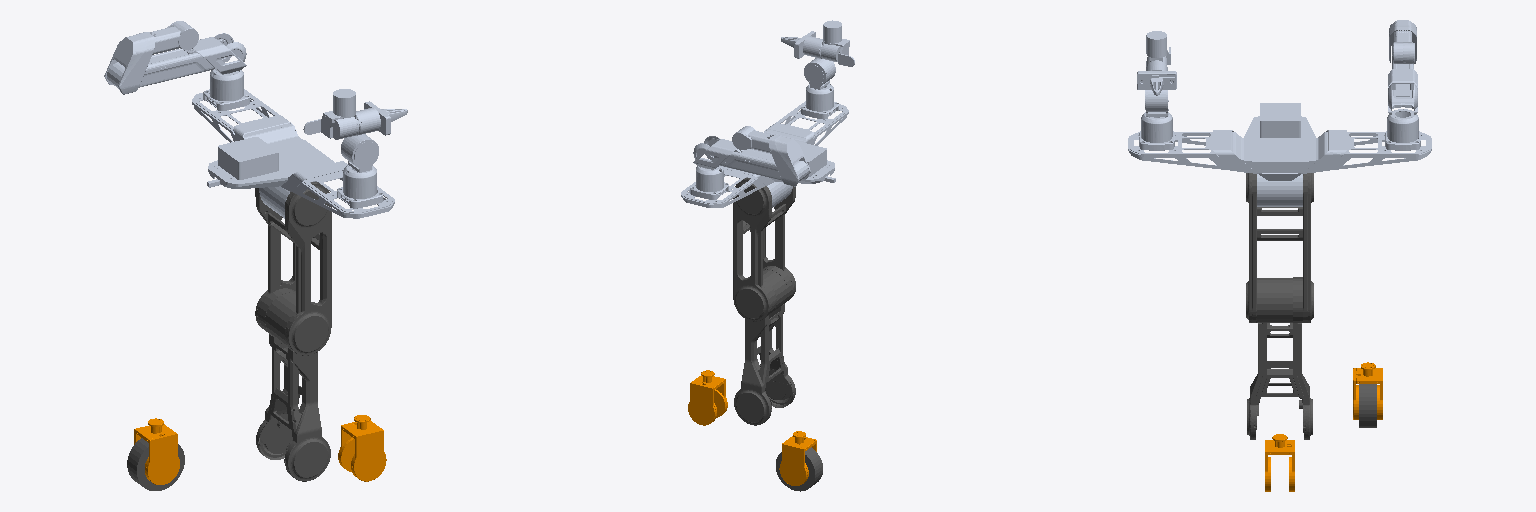
--- What the picture shows (computed from the rendered views, not written in the file) ---
The picture shows the robot from 3 angles, left to right: view 1: azimuth 30°, elevation 25°; view 2: azimuth 150°, elevation 25°; view 3: azimuth 270°, elevation 25°; orthographic projection.
Model mmp_revB_invconfig_upright_a1x with 33 links and 32 joints (18 revolute, 4 continuous, 6 prismatic, 4 fixed), rooted at root, posed all joints at 0.
Links seen in each view (by area): view 1: torso_link3, torso_link1, torso_link2, left_arm_link2, left_arm_link3, steer_motor_link1, steer_motor_link2, right_arm_base_link, left_arm_base_link, right_arm_link4, wheel_motor_link2, right_arm_link1 (+1 smaller); view 2: torso_link1, torso_link2, torso_link3, left_arm_link2, left_arm_link3, steer_motor_link1, steer_motor_link2, left_arm_base_link, right_arm_base_link, right_arm_link4, wheel_motor_link2, right_arm_link1 (+1 smaller); view 3: torso_link3, torso_link1, torso_link2, left_arm_link2, left_arm_base_link, right_arm_base_link, left_arm_link3, steer_motor_link2, steer_motor_link1, wheel_motor_link2, right_gripper_link, right_arm_link4 (+1 smaller).
Boxes of the visible links, bbox=[...] form: torso_link3: bbox=[192, 89, 394, 218]; torso_link1: bbox=[256, 288, 330, 481]; torso_link2: bbox=[255, 182, 331, 355]; left_arm_link2: bbox=[107, 33, 246, 88]; left_arm_link3: bbox=[104, 21, 198, 94]; steer_motor_link1: bbox=[338, 415, 386, 481]; steer_motor_link2: bbox=[134, 418, 179, 484]; right_arm_base_link: bbox=[337, 165, 383, 208]; left_arm_base_link: bbox=[203, 69, 249, 110]; right_arm_link4: bbox=[303, 89, 355, 138]; wheel_motor_link2: bbox=[127, 438, 184, 490]; right_arm_link1: bbox=[341, 134, 378, 172]; torso_link1: bbox=[734, 266, 795, 425]; torso_link2: bbox=[733, 178, 795, 321]; torso_link3: bbox=[681, 101, 848, 207]; left_arm_link2: bbox=[693, 136, 808, 180]; left_arm_link3: bbox=[732, 126, 810, 186]; steer_motor_link1: bbox=[688, 370, 727, 425]; steer_motor_link2: bbox=[779, 431, 816, 485]; left_arm_base_link: bbox=[690, 166, 728, 199]; right_arm_base_link: bbox=[801, 83, 838, 119]; right_arm_link4: bbox=[823, 20, 854, 66]; wheel_motor_link2: bbox=[776, 447, 822, 491]; right_arm_link1: bbox=[804, 58, 835, 89]; torso_link3: bbox=[1128, 103, 1431, 206]; torso_link1: bbox=[1247, 277, 1312, 439]; torso_link2: bbox=[1246, 173, 1313, 322]; left_arm_link2: bbox=[1388, 45, 1417, 114]; left_arm_base_link: bbox=[1385, 109, 1420, 150]; right_arm_base_link: bbox=[1139, 112, 1174, 150]; left_arm_link3: bbox=[1389, 20, 1416, 63]; steer_motor_link2: bbox=[1353, 362, 1382, 419]; steer_motor_link1: bbox=[1265, 434, 1294, 491]; wheel_motor_link2: bbox=[1359, 384, 1376, 427]; right_gripper_link: bbox=[1137, 60, 1176, 89]; right_arm_link4: bbox=[1146, 31, 1170, 64].
Size in the robot's own frame: 0.8723 by 1.24 by 1.91 metres.
Meshes: 30 distinct files referenced, 17 mesh visuals loaded (17 binary STL); not drawn: 13 (reference not matched to a file when rendering).

robot.urdf — mmp_revB_invconfig_upright_a1x:
<?xml version='1.0' encoding='utf-8'?>
<robot name="mmp_revB_invconfig_upright_a1x">
  <link name="root">
    <inertial>
      <mass value="0.0" />
      <inertia ixx="0.0" ixy="0.0" ixz="0.0" iyy="0.0" iyz="0.0" izz="0.0" />
    </inertial>
  </link>
  <link name="root_arm_1_link_1">
    <inertial>
      <mass value="0.0" />
      <inertia ixx="0.0" ixy="0.0" ixz="0.0" iyy="0.0" iyz="0.0" izz="0.0" />
    </inertial>
  </link>
  <link name="root_arm_1_link_2">
    <inertial>
      <mass value="0.0" />
      <inertia ixx="0.0" ixy="0.0" ixz="0.0" iyy="0.0" iyz="0.0" izz="0.0" />
    </inertial>
  </link>
  <joint name="root_x_axis_joint" type="prismatic">
    <parent link="root" />
    <child link="root_arm_1_link_1" />
    <axis xyz="1 0 0" />
    <limit effort="100" lower="-20" upper="20" velocity="0.50" />
    <dynamics damping="10.0" friction="10" />
  </joint>
  <joint name="root_y_axis_joint" type="prismatic">
    <parent link="root_arm_1_link_1" />
    <child link="root_arm_1_link_2" />
    <axis xyz="0 1 0" />
    <limit effort="100" lower="-20" upper="20" velocity="0.50" />
    <dynamics damping="10.0" friction="10" />
  </joint>
  <joint name="root_z_rotation_joint" type="continuous">
    <parent link="root_arm_1_link_2" />
    <child link="base_link" />
    <axis xyz="0 0 1" />
    <dynamics damping="10.0" friction="1" />
  </joint>
  <link name="base_link">
    <inertial>
      <origin xyz="0.0718033657159837 -0.0016279349766449 0.128750850965126" rpy="0 0 0" />
      <mass value="84.75975" />
      <inertia ixx="1.4503537537107307" ixy="0.0005324387908905824" ixz="-0.059682165188543475" iyy="1.1545227853852102" iyz="-0.0037570753847959715" izz="2.2114435103733543" />
    </inertial>
    <visual>
      <origin xyz="0 0 0" rpy="0 0 0" />
      <geometry>
        <mesh filename="../meshes/base_link.STL" scale="1.5 1.5 1.5" />
      </geometry>
      <material name="">
        <color rgba="0.294117647058824 0.294117647058824 0.294117647058824 1" />
      </material>
    </visual>
    <collision>
      <origin xyz="0 0 0" rpy="0 0 0" />
      <geometry>
        <mesh filename="../meshes/base_link.STL" scale="1.5 1.5 1.5" />
      </geometry>
    </collision>
  </link>
  <link name="steer_motor_link1">
    <inertial>
      <origin xyz="-1.76196610579549E-07 -7.75116053202478E-05 -0.0852489956386505" rpy="0 0 0" />
      <mass value="5.0625" />
      <inertia ixx="0.002571681533915996" ixy="4.664062942741949e-08" ixz="5.01615731932985e-08" iyy="0.0038264978531113098" iyz="2.737670111951167e-07" izz="0.0016059774959389808" />
    </inertial>
    <visual>
      <origin xyz="0 0 0" rpy="0 0 0" />
      <geometry>
        <mesh filename="../meshes/steer_motor_link1.STL" scale="1.5 1.5 1.5" />
      </geometry>
      <material name="">
        <color rgba="1 0.6 0 1" />
      </material>
    </visual>
    <collision>
      <origin xyz="0 0 0" rpy="0 0 0" />
      <geometry>
        <mesh filename="../meshes/steer_motor_link1.STL" scale="1.5 1.5 1.5" />
      </geometry>
    </collision>
  </link>
  <joint name="steer_motor_joint1" type="revolute">
    <origin xyz="0.43774499999999994 -0.00223455 0.272475" rpy="0 0 0" />
    <parent link="base_link" />
    <child link="steer_motor_link1" />
    <axis xyz="0 0 1" />
    <limit lower="-3.1416" upper="3.1416" effort="20" velocity="20" />
  </joint>
  <link name="wheel_motor_link1">
    <inertial>
      <origin xyz="0 -9.99250577455509E-13 -2.34534613952064E-15" rpy="0 0 0" />
      <mass value="5.0625" />
      <inertia ixx="0.007950845889023716" ixy="1.5353515365260827e-17" ixz="-6.586528197848303e-19" iyy="0.013747051819412904" iyz="2.6891446176872387e-16" izz="0.007950845889023716" />
    </inertial>
    <visual>
      <origin xyz="0 0 0" rpy="0 0 0" />
      <geometry>
        <mesh filename="../meshes/wheel_motor_link1.STL" scale="1.5 1.5 1.5" />
      </geometry>
      <material name="">
        <color rgba="0.4 0.4 0.4 1" />
      </material>
    </visual>
    <collision>
      <origin xyz="0 0 0" rpy="0 0 0" />
      <geometry>
        <mesh filename="../meshes/wheel_motor_link1.STL" scale="1.5 1.5 1.5" />
      </geometry>
    </collision>
  </link>
  <joint name="wheel_motor_joint1" type="continuous">
    <origin xyz="0.0 0.0 -0.16747499999999998" rpy="0 0 0" />
    <parent link="steer_motor_link1" />
    <child link="wheel_motor_link1" />
    <axis xyz="0 1 0" />
  </joint>
  <link name="steer_motor_link2">
    <inertial>
      <origin xyz="1.76196610607304E-07 7.75116053202962E-05 -0.0852489956386505" rpy="0 0 0" />
      <mass value="5.0625" />
      <inertia ixx="0.002571681533915996" ixy="4.664062942746703e-08" ixz="-5.0161573193262044e-08" iyy="0.0038264978531113098" iyz="-2.7376701119518424e-07" izz="0.0016059774959389732" />
    </inertial>
    <visual>
      <origin xyz="0 0 0" rpy="0 0 0" />
      <geometry>
        <mesh filename="../meshes/steer_motor_link2.STL" scale="1.5 1.5 1.5" />
      </geometry>
      <material name="">
        <color rgba="1 0.6 0 1" />
      </material>
    </visual>
    <collision>
      <origin xyz="0 0 0" rpy="0 0 0" />
      <geometry>
        <mesh filename="../meshes/steer_motor_link2.STL" scale="1.5 1.5 1.5" />
      </geometry>
    </collision>
  </link>
  <joint name="steer_motor_joint2" type="revolute">
    <origin xyz="-0.252255 0.357765 0.272475" rpy="0 0 0" />
    <parent link="base_link" />
    <child link="steer_motor_link2" />
    <axis xyz="0 0 1" />
    <limit lower="-3.1416" upper="3.1416" effort="20" velocity="20" />
  </joint>
  <link name="wheel_motor_link2">
    <inertial>
      <origin xyz="2.77555756156289E-17 -1.94289029309402E-16 -2.34621350125863E-15" rpy="0 0 0" />
      <mass value="5.0625" />
      <inertia ixx="0.007950845889023716" ixy="1.527118376278775e-17" ixz="-6.586528197848303e-19" iyy="0.013747051819412904" iyz="2.6888933615761767e-16" izz="0.007950845889023716" />
    </inertial>
    <visual>
      <origin xyz="0 0 0" rpy="0 0 0" />
      <geometry>
        <mesh filename="../meshes/wheel_motor_link2.STL" scale="1.5 1.5 1.5" />
      </geometry>
      <material name="">
        <color rgba="0.4 0.4 0.4 1" />
      </material>
    </visual>
    <collision>
      <origin xyz="0 0 0" rpy="0 0 0" />
      <geometry>
        <mesh filename="../meshes/wheel_motor_link2.STL" scale="1.5 1.5 1.5" />
      </geometry>
    </collision>
  </link>
  <joint name="wheel_motor_joint2" type="continuous">
    <origin xyz="0.0 0.0 -0.16747499999999998" rpy="0 0 0" />
    <parent link="steer_motor_link2" />
    <child link="wheel_motor_link2" />
    <axis xyz="0 1 0" />
  </joint>
  <link name="steer_motor_link3">
    <inertial>
      <origin xyz="1.76196610579549E-07 7.75116053202407E-05 -0.0852489956386505" rpy="0 0 0" />
      <mass value="5.0625" />
      <inertia ixx="0.002571681533915996" ixy="4.6640629427396094e-08" ixz="-5.016157319327944e-08" iyy="0.0038264978531113098" iyz="-2.737670111951949e-07" izz="0.0016059774959389732" />
    </inertial>
    <visual>
      <origin xyz="0 0 0" rpy="0 0 0" />
      <geometry>
        <mesh filename="../meshes/steer_motor_link3.STL" scale="1.5 1.5 1.5" />
      </geometry>
      <material name="">
        <color rgba="1 0.6 0 1" />
      </material>
    </visual>
    <collision>
      <origin xyz="0 0 0" rpy="0 0 0" />
      <geometry>
        <mesh filename="../meshes/steer_motor_link3.STL" scale="1.5 1.5 1.5" />
      </geometry>
    </collision>
  </link>
  <joint name="steer_motor_joint3" type="revolute">
    <origin xyz="-0.252255 -0.36223500000000003 0.272475" rpy="0 0 0" />
    <parent link="base_link" />
    <child link="steer_motor_link3" />
    <axis xyz="0 0 1" />
    <limit lower="-3.1416" upper="3.1416" effort="20" velocity="20" />
  </joint>
  <link name="wheel_motor_link3">
    <inertial>
      <origin xyz="0 -1.94289029309402E-16 -2.34274405430668E-15" rpy="0 0 0" />
      <mass value="5.0625" />
      <inertia ixx="0.007950845889023716" ixy="1.518885216031459e-17" ixz="-6.586528197848312e-19" iyy="0.013747051819412904" iyz="2.68718683006984e-16" izz="0.007950845889023716" />
    </inertial>
    <visual>
      <origin xyz="0 0 0" rpy="0 0 0" />
      <geometry>
        <mesh filename="../meshes/wheel_motor_link3.STL" scale="1.5 1.5 1.5" />
      </geometry>
      <material name="">
        <color rgba="0.4 0.4 0.4 1" />
      </material>
    </visual>
    <collision>
      <origin xyz="0 0 0" rpy="0 0 0" />
      <geometry>
        <mesh filename="../meshes/wheel_motor_link3.STL" scale="1.5 1.5 1.5" />
      </geometry>
    </collision>
  </link>
  <joint name="wheel_motor_joint3" type="continuous">
    <origin xyz="0.0 0.0 -0.16747499999999998" rpy="0 0 0" />
    <parent link="steer_motor_link3" />
    <child link="wheel_motor_link3" />
    <axis xyz="0 1 0" />
  </joint>
  <link name="torso_link1">
    <inertial>
      <origin xyz="0.00321196798398059 0.0116566745256909 0.100697975240297" rpy="0 0 0" />
      <mass value="16.223625000000002" />
      <inertia ixx="0.02357946656988815" ixy="2.9574280748349998e-05" ixz="-0.0008507263773779792" iyy="0.024821596446011236" iyz="0.00031505147172503637" izz="0.002695735589828155" />
    </inertial>
    <visual>
      <origin xyz="0 0 0" rpy="0 0 0" />
      <geometry>
        <mesh filename="../meshes/torso_link1.STL" scale="1.5 1.5 1.5" />
      </geometry>
      <material name="">
        <color rgba="0.4 0.4 0.4 1" />
      </material>
    </visual>
    <collision>
      <origin xyz="0 0 0" rpy="0 0 0" />
      <geometry>
        <mesh filename="../meshes/torso_link1.STL" scale="1.5 1.5 1.5" />
      </geometry>
    </collision>
  </link>
  <joint name="torso_joint1" type="revolute">
    <origin xyz="0.1377465 0.000540495 0.222975" rpy="0 0 0" />
    <parent link="base_link" />
    <child link="torso_link1" />
    <axis xyz="0 1 0" />
    <limit lower="-1.5708" upper="0.436333" effort="100" velocity="2.5" />
  </joint>
  <link name="torso_link2">
    <inertial>
      <origin xyz="0.00627300956924463 0.00536087570300695 0.184118796618929" rpy="0 0 0" />
      <mass value="9.379125" />
      <inertia ixx="0.23505751607370298" ixy="-4.237006364664964e-06" ixz="0.002262574339269828" iyy="0.24692610270305135" iyz="6.835108633436802e-06" izz="0.014067912779949608" />
    </inertial>
    <visual>
      <origin xyz="0 0 0" rpy="0 0 0" />
      <geometry>
        <mesh filename="../meshes/torso_link2.STL" scale="1.5 1.5 1.5" />
      </geometry>
      <material name="">
        <color rgba="0.4 0.4 0.4 1" />
      </material>
    </visual>
    <collision>
      <origin xyz="0 0 0" rpy="0 0 0" />
      <geometry>
        <mesh filename="../meshes/torso_link2.STL" scale="1.5 1.5 1.5" />
      </geometry>
    </collision>
  </link>
  <joint name="torso_joint2" type="revolute">
    <origin xyz="0.0 -0.002775 0.5249999999999999" rpy="0 0 0" />
    <parent link="torso_link1" />
    <child link="torso_link2" />
    <axis xyz="0 1 0" />
    <limit lower="-2.705262" upper="2.705262" effort="100" velocity="2.5" />
  </joint>
  <link name="torso_link3">
    <inertial>
      <origin xyz="-0.0416383086406449 0.000484599582373232 0.051111008977659" rpy="0 0 0" />
      <mass value="18.336375" />
      <inertia ixx="0.04914821939145864" ixy="-3.428280470639972e-06" ixz="-9.772203032557729e-05" iyy="0.04118220243430512" iyz="-1.2720366211953896e-06" izz="0.06417189079140947" />
    </inertial>
    <visual>
      <origin xyz="0 0 0" rpy="0 0 0" />
      <geometry>
        <mesh filename="../meshes/torso_link3.STL" scale="1.5 1.5 1.5" />
      </geometry>
      <material name="">
        <color rgba="0.807843137254902 0.843137254901961 0.905882352941176 1" />
      </material>
    </visual>
    <collision>
      <origin xyz="0 0 0" rpy="0 0 0" />
      <geometry>
        <mesh filename="../meshes/torso_link3.STL" scale="1.5 1.5 1.5" />
      </geometry>
    </collision>
  </link>
  <joint name="torso_joint3" type="revolute">
    <origin xyz="0.0001447275 0.0 0.5249999999999999" rpy="0 0 0" />
    <parent link="torso_link2" />
    <child link="torso_link3" />
    <axis xyz="0 -1 0" />
    <limit lower="-1.5708" upper="1.5708" effort="100" velocity="2.5" />
  </joint>
  <link name="left_arm_base_link">
    <inertial>
      <origin xyz="0.0030333225964161 -0.000695374211760413 0.0297999913998699" rpy="0 0 0" />
      <mass value="2.65275" />
      <inertia ixx="0.0015919458107638462" ixy="1.066377463538688e-05" ixz="4.318487308950261e-05" iyy="0.0015172092857767803" iyz="-2.7772269851986952e-05" izz="0.0018032110196507072" />
    </inertial>
    <visual>
      <origin xyz="0 0 0" rpy="0 0 0" />
      <geometry>
        <mesh filename="../meshes/left_arm_base_link.STL" scale="1.5 1.5 1.5" />
      </geometry>
      <material name="">
        <color rgba="0.807843137254902 0.843137254901961 0.905882352941176 1" />
      </material>
    </visual>
    <collision>
      <origin xyz="0 0 0" rpy="0 0 0" />
      <geometry>
        <mesh filename="../meshes/left_arm_base_link.STL" scale="1.5 1.5 1.5" />
      </geometry>
    </collision>
  </link>
  <joint name="left_arm_base_joint" type="fixed">
    <origin xyz="0.0 0.5025000000000001 0.18459" rpy="0 0 0" />
    <parent link="torso_link3" />
    <child link="left_arm_base_link" />
    <axis xyz="0 0 0" />
  </joint>
  <link name="left_arm_link1">
    <inertial>
      <origin xyz="3.42079032877862E-07 -0.00198629091504759 0.0468866154783616" rpy="0 0 0" />
      <mass value="2.831625" />
      <inertia ixx="0.0017021027513551283" ixy="-3.628503303824999e-09" ixz="6.404342870953846e-08" iyy="0.002048864849682422" iyz="7.125568797832528e-08" izz="0.0016609571858574828" />
    </inertial>
    <visual>
      <origin xyz="0 0 0" rpy="0 0 0" />
      <geometry>
        <mesh filename="../meshes/left_arm_link1.STL" scale="1.5 1.5 1.5" />
      </geometry>
      <material name="">
        <color rgba="0.807843137254902 0.843137254901961 0.905882352941176 1" />
      </material>
    </visual>
    <collision>
      <origin xyz="0 0 0" rpy="0 0 0" />
      <geometry>
        <mesh filename="../meshes/left_arm_link1.STL" scale="1.5 1.5 1.5" />
      </geometry>
    </collision>
  </link>
  <joint name="left_arm_joint1" type="revolute">
    <origin xyz="0.0 0.0 0.129075" rpy="0 0 0" />
    <parent link="left_arm_base_link" />
    <child link="left_arm_link1" />
    <axis xyz="0 0 1" />
    <limit lower="-2.8798" upper="2.8798" effort="27" velocity="10.472" />
  </joint>
  <link name="left_arm_link2">
    <inertial>
      <origin xyz="-0.122675172740935 -0.0295384346078661 0.00365030178710546" rpy="0 0 0" />
      <mass value="3.6787500000000004" />
      <inertia ixx="0.0029482121590797632" ixy="-0.00016526960224150846" ixz="6.769270231467621e-05" iyy="0.020855283176826143" iyz="9.09338447802507e-06" izz="0.021111539749868704" />
    </inertial>
    <visual>
      <origin xyz="0 0 0" rpy="0 0 0" />
      <geometry>
        <mesh filename="../meshes/left_arm_link2.STL" scale="1.5 1.5 1.5" />
      </geometry>
      <material name="">
        <color rgba="0.807843137254902 0.843137254901961 0.905882352941176 1" />
      </material>
    </visual>
    <collision>
      <origin xyz="0 0 0" rpy="0 0 0" />
      <geometry>
        <mesh filename="../meshes/left_arm_link2.STL" scale="1.5 1.5 1.5" />
      </geometry>
    </collision>
  </link>
  <joint name="left_arm_joint2" type="revolute">
    <origin xyz="0.0 0.046125 0.073875" rpy="0 0 0" />
    <parent link="left_arm_link1" />
    <child link="left_arm_link2" />
    <axis xyz="0 1 0" />
    <limit lower="0" upper="3.1416" effort="50" velocity="12.5664" />
  </joint>
  <link name="left_arm_link3">
    <inertial>
      <origin xyz="0.0566624793223791 -0.0291316466078999 0.0568018844686509" rpy="0 0 0" />
      <mass value="2.494125" />
      <inertia ixx="0.0019584854217910837" ixy="7.798435836926695e-05" ixz="-0.0010000491832351521" iyy="0.005098081021199928" iyz="-6.1006861198335475e-05" izz="0.0041769544214593024" />
    </inertial>
    <visual>
      <origin xyz="0 0 0" rpy="0 0 0" />
      <geometry>
        <mesh filename="../meshes/left_arm_link3.STL" scale="1.5 1.5 1.5" />
      </geometry>
      <material name="">
        <color rgba="0.807843137254902 0.843137254901961 0.905882352941176 1" />
      </material>
    </visual>
    <collision>
      <origin xyz="0 0 0" rpy="0 0 0" />
      <geometry>
        <mesh filename="../meshes/left_arm_link3.STL" scale="1.5 1.5 1.5" />
      </geometry>
    </collision>
  </link>
  <joint name="left_arm_joint3" type="revolute">
    <origin xyz="-0.44999999999999996 0.00037506 0.0" rpy="0 0 0" />
    <parent link="left_arm_link2" />
    <child link="left_arm_link3" />
    <axis xyz="0 1 0" />
    <limit lower="-3.3161" upper="0" effort="27" velocity="10.472" />
  </joint>
  <link name="left_arm_link4">
    <inertial>
      <origin xyz="0.0699840030193581 -0.0287504697364447 0.0541968318197228" rpy="0 0 0" />
      <mass value="1.4141249999999999" />
      <inertia ixx="0.0005027114867370031" ixy="-7.110457093588677e-08" ixz="-3.2340000990694325e-08" iyy="0.0005158489349523099" iyz="5.9058635252980525e-06" izz="0.0005082234494296838" />
    </inertial>
    <visual>
      <origin xyz="0 0 0" rpy="0 0 0" />
      <geometry>
        <mesh filename="../meshes/left_arm_link4.STL" scale="1.5 1.5 1.5" />
      </geometry>
      <material name="">
        <color rgba="0.807843137254902 0.843137254901961 0.905882352941176 1" />
      </material>
    </visual>
    <collision>
      <origin xyz="0 0 0" rpy="0 0 0" />
      <geometry>
        <mesh filename="../meshes/left_arm_link4.STL" scale="1.5 1.5 1.5" />
      </geometry>
    </collision>
  </link>
  <joint name="left_arm_joint4" type="revolute">
    <origin xyz="0.26205 0.0007460850000000001 0.1132275" rpy="0 0 0" />
    <parent link="left_arm_link3" />
    <child link="left_arm_link4" />
    <axis xyz="0 1 0" />
    <limit lower="-1.5708" upper="1.5708" effort="14" velocity="32.9867" />
  </joint>
  <link name="left_arm_link5">
    <inertial>
      <origin xyz="-0.000803198983898074 -2.29028914278118E-07 -0.0402656141956459" rpy="0 0 0" />
      <mass value="0.18225" />
      <inertia ixx="0.0004407571883404565" ixy="-1.4781831584155714e-12" ixz="8.475676311160733e-14" iyy="0.00043770189545186677" iyz="-2.7047711194563435e-10" izz="0.000431749019594611" />
    </inertial>
    <visual>
      <origin xyz="0 0 0" rpy="0 0 0" />
      <geometry>
        <mesh filename="../meshes/left_arm_link5.STL" scale="1.5 1.5 1.5" />
      </geometry>
      <material name="">
        <color rgba="0.807843137254902 0.843137254901961 0.905882352941176 1" />
      </material>
    </visual>
    <collision>
      <origin xyz="0 0 0" rpy="0 0 0" />
      <geometry>
        <mesh filename="../meshes/left_arm_link5.STL" scale="1.5 1.5 1.5" />
      </geometry>
    </collision>
  </link>
  <joint name="left_arm_joint5" type="revolute">
    <origin xyz="0.12 -0.047247 0.06075" rpy="0 0 0" />
    <parent link="left_arm_link4" />
    <child link="left_arm_link5" />
    <axis xyz="0 0 1" />
    <limit lower="-1.5708" upper="1.5708" effort="14" velocity="32.9867" />
  </joint>
  <link name="left_arm_link6">
    <inertial>
      <origin xyz="0.00709944426961403 -8.90673146347609E-10 -3.82632235882419E-05" rpy="0 0 0" />
      <mass value="0.104625" />
      <inertia ixx="2.6162551539747448e-05" ixy="-1.523733755264418e-12" ixz="-9.578526553457137e-09" iyy="1.3864120533587797e-05" iyz="-3.0023005328447586e-14" izz="1.380019709698088e-05" />
    </inertial>
    <visual>
      <origin xyz="0 0 0" rpy="0 0 0" />
      <geometry>
        <mesh filename="../meshes/left_arm_link6.STL" scale="1.5 1.5 1.5" />
      </geometry>
      <material name="">
        <color rgba="0.807843137254902 0.843137254901961 0.905882352941176 1" />
      </material>
    </visual>
    <collision>
      <origin xyz="0 0 0" rpy="0 0 0" />
      <geometry>
        <mesh filename="../meshes/left_arm_link6.STL" scale="1.5 1.5 1.5" />
      </geometry>
    </collision>
  </link>
  <joint name="left_arm_joint6" type="revolute">
    <origin xyz="0.0337545 0.0 -0.06075" rpy="0 0 0" />
    <parent link="left_arm_link5" />
    <child link="left_arm_link6" />
    <axis xyz="1 0 0" />
    <limit lower="-2.8798" upper="2.8798" effort="14" velocity="32.9867" />
  </joint>
  <link name="left_gripper_link">
    <inertial>
      <origin xyz="-0.0311072323899603 1.17979991887118E-08 7.93394685505433E-08" rpy="0 0 0" />
      <mass value="2.0385" />
      <inertia ixx="0.0013356004761893117" ixy="-4.602013361149842e-10" ixz="4.029573361460022e-09" iyy="0.0007490318627232059" iyz="-6.21690207114068e-07" izz="0.0012538897244045951" />
    </inertial>
    <visual>
      <origin xyz="0 0 0" rpy="0 0 0" />
      <geometry>
        <mesh filename="../meshes/left_gripper_link.STL" scale="1.5 1.5 1.5" />
      </geometry>
      <material name="">
        <color rgba="0.807843137254902 0.843137254901961 0.905882352941176 1" />
      </material>
    </visual>
    <collision>
      <origin xyz="0 0 0" rpy="0 0 0" />
      <geometry>
        <mesh filename="../meshes/left_gripper_link.STL" scale="1.5 1.5 1.5" />
      </geometry>
    </collision>
  </link>
  <joint name="left_gripper_joint" type="fixed">
    <origin xyz="0.122475 0.0 0.0" rpy="0 0 0" />
    <parent link="left_arm_link6" />
    <child link="left_gripper_link" />
    <axis xyz="0 0 0" />
  </joint>
  <link name="left_gripper_finger_link1">
    <inertial>
      <origin xyz="-0.0195895895552112 -0.0151136845490034 0.00542254359093075" rpy="0 0 0" />
      <mass value="0.06816324592241438" />
      <inertia ixx="1.826823565936306e-05" ixy="3.0297892765620824e-06" ixz="3.889160037832024e-07" iyy="4.3366334215227e-05" iyz="4.7040843808760066e-07" izz="4.924411584221156e-05" />
    </inertial>
    <visual>
      <origin xyz="0 0 0" rpy="0 0 0" />
      <geometry>
        <mesh filename="../meshes/left_gripper_finger_link1.STL" scale="1.5 1.5 1.5" />
      </geometry>
      <material name="">
        <color rgba="0.807843137254902 0.843137254901961 0.905882352941176 1" />
      </material>
    </visual>
    <collision>
      <origin xyz="0 0 0" rpy="0 0 0" />
      <geometry>
        <mesh filename="../meshes/left_gripper_finger_link1.STL" scale="1.5 1.5 1.5" />
      </geometry>
    </collision>
  </link>
  <joint name="left_gripper_finger_joint1" type="prismatic">
    <origin xyz="0.055334999999999995 0.0201795 0.000180885" rpy="0 0 0" />
    <parent link="left_gripper_link" />
    <child link="left_gripper_finger_link1" />
    <axis xyz="0 1 0" />
    <limit lower="0" upper="0.05" effort="100" velocity="0.25" />
  </joint>
  <link name="left_gripper_finger_link2">
    <inertial>
      <origin xyz="-0.0195895857999098 0.0151136893508115 -0.00542254357246619" rpy="0 0 0" />
      <mass value="0.06816324627393446" />
      <inertia ixx="1.826823426776873e-05" ixy="-3.029783116030973e-06" ixz="-3.8891594370930435e-07" iyy="4.336633598323523e-05" iyz="4.7040847681433834e-07" izz="4.9244116096136236e-05" />
    </inertial>
    <visual>
      <origin xyz="0 0 0" rpy="0 0 0" />
      <geometry>
        <mesh filename="../meshes/left_gripper_finger_link2.STL" scale="1.5 1.5 1.5" />
      </geometry>
      <material name="">
        <color rgba="0.807843137254902 0.843137254901961 0.905882352941176 1" />
      </material>
    </visual>
    <collision>
      <origin xyz="0 0 0" rpy="0 0 0" />
      <geometry>
        <mesh filename="../meshes/left_gripper_finger_link2.STL" scale="1.5 1.5 1.5" />
      </geometry>
    </collision>
  </link>
  <joint name="left_gripper_finger_joint2" type="prismatic">
    <origin xyz="0.055334999999999995 -0.0201795 -0.000180885" rpy="0 0 0" />
    <parent link="left_gripper_link" />
    <child link="left_gripper_finger_link2" />
    <axis xyz="0 1 0" />
    <limit lower="-0.05" upper="0" effort="100" velocity="0.25" />
  </joint>
  <link name="right_arm_base_link">
    <inertial>
      <origin xyz="0.00303332259650781 -0.000695374211141575 0.0297999913998387" rpy="0 0 0" />
      <mass value="2.65275" />
      <inertia ixx="0.0015919458107619099" ixy="1.0663774650484546e-05" ixz="4.318487309397738e-05" iyy="0.0015172092857820884" iyz="-2.7772269843046753e-05" izz="0.0018032110196530993" />
    </inertial>
    <visual>
      <origin xyz="0 0 0" rpy="0 0 0" />
      <geometry>
        <mesh filename="../meshes/right_arm_base_link.STL" scale="1.5 1.5 1.5" />
      </geometry>
      <material name="">
        <color rgba="0.807843137254902 0.843137254901961 0.905882352941176 1" />
      </material>
    </visual>
    <collision>
      <origin xyz="0 0 0" rpy="0 0 0" />
      <geometry>
        <mesh filename="../meshes/right_arm_base_link.STL" scale="1.5 1.5 1.5" />
      </geometry>
    </collision>
  </link>
  <joint name="right_arm_base_joint" type="fixed">
    <origin xyz="0.0 -0.5025000000000001 0.18459" rpy="0 0 0" />
    <parent link="torso_link3" />
    <child link="right_arm_base_link" />
    <axis xyz="0 0 0" />
  </joint>
  <link name="right_arm_link1">
    <inertial>
      <origin xyz="3.42079032877862E-07 -0.00198629091504759 0.0468866154783616" rpy="0 0 0" />
      <mass value="2.831625" />
      <inertia ixx="0.0017021027513551283" ixy="-3.628503303824999e-09" ixz="6.404342870953846e-08" iyy="0.002048864849682422" iyz="7.125568797832528e-08" izz="0.0016609571858574828" />
    </inertial>
    <visual>
      <origin xyz="0 0 0" rpy="0 0 0" />
      <geometry>
        <mesh filename="../meshes/right_arm_link1.STL" scale="1.5 1.5 1.5" />
      </geometry>
      <material name="">
        <color rgba="0.807843137254902 0.843137254901961 0.905882352941176 1" />
      </material>
    </visual>
    <collision>
      <origin xyz="0 0 0" rpy="0 0 0" />
      <geometry>
        <mesh filename="../meshes/right_arm_link1.STL" scale="1.5 1.5 1.5" />
      </geometry>
    </collision>
  </link>
  <joint name="right_arm_joint1" type="revolute">
    <origin xyz="0.0 0.0 0.129075" rpy="0 0 0" />
    <parent link="right_arm_base_link" />
    <child link="right_arm_link1" />
    <axis xyz="0 0 1" />
    <limit lower="-2.8798" upper="2.8798" effort="27" velocity="10.472" />
  </joint>
  <link name="right_arm_link2">
    <inertial>
      <origin xyz="-0.122675172740935 -0.0295384346078661 0.00365030178710546" rpy="0 0 0" />
      <mass value="3.6787500000000004" />
      <inertia ixx="0.0029482121590797632" ixy="-0.00016526960224150846" ixz="6.769270231467621e-05" iyy="0.020855283176826143" iyz="9.09338447802507e-06" izz="0.021111539749868704" />
    </inertial>
    <visual>
      <origin xyz="0 0 0" rpy="0 0 0" />
      <geometry>
        <mesh filename="../meshes/right_arm_link2.STL" scale="1.5 1.5 1.5" />
      </geometry>
      <material name="">
        <color rgba="0.807843137254902 0.843137254901961 0.905882352941176 1" />
      </material>
    </visual>
    <collision>
      <origin xyz="0 0 0" rpy="0 0 0" />
      <geometry>
        <mesh filename="../meshes/right_arm_link2.STL" scale="1.5 1.5 1.5" />
      </geometry>
    </collision>
  </link>
  <joint name="right_arm_joint2" type="revolute">
    <origin xyz="0.0 0.046125 0.073875" rpy="0 0 0" />
    <parent link="right_arm_link1" />
    <child link="right_arm_link2" />
    <axis xyz="0 1 0" />
    <limit lower="0" upper="3.1416" effort="50" velocity="12.5664" />
  </joint>
  <link name="right_arm_link3">
    <inertial>
      <origin xyz="0.0566624793223791 -0.0291316466078999 0.0568018844686509" rpy="0 0 0" />
      <mass value="2.494125" />
      <inertia ixx="0.0019584854217910837" ixy="7.798435836926695e-05" ixz="-0.0010000491832351521" iyy="0.005098081021199928" iyz="-6.1006861198335475e-05" izz="0.0041769544214593024" />
    </inertial>
    <visual>
      <origin xyz="0 0 0" rpy="0 0 0" />
      <geometry>
        <mesh filename="../meshes/right_arm_link3.STL" scale="1.5 1.5 1.5" />
      </geometry>
      <material name="">
        <color rgba="0.807843137254902 0.843137254901961 0.905882352941176 1" />
      </material>
    </visual>
    <collision>
      <origin xyz="0 0 0" rpy="0 0 0" />
      <geometry>
        <mesh filename="../meshes/right_arm_link3.STL" scale="1.5 1.5 1.5" />
      </geometry>
    </collision>
  </link>
  <joint name="right_arm_joint3" type="revolute">
    <origin xyz="-0.44999999999999996 0.00037506 0.0" rpy="0 0 0" />
    <parent link="right_arm_link2" />
    <child link="right_arm_link3" />
    <axis xyz="0 1 0" />
    <limit lower="-3.3161" upper="0" effort="27" velocity="10.472" />
  </joint>
  <link name="right_arm_link4">
    <inertial>
      <origin xyz="0.0699840030193581 -0.0287504697364447 0.0541968318197228" rpy="0 0 0" />
      <mass value="1.4141249999999999" />
      <inertia ixx="0.0005027114867370031" ixy="-7.110457093588677e-08" ixz="-3.2340000990694325e-08" iyy="0.0005158489349523099" iyz="5.9058635252980525e-06" izz="0.0005082234494296838" />
    </inertial>
    <visual>
      <origin xyz="0 0 0" rpy="0 0 0" />
      <geometry>
        <mesh filename="../meshes/right_arm_link4.STL" scale="1.5 1.5 1.5" />
      </geometry>
      <material name="">
        <color rgba="0.807843137254902 0.843137254901961 0.905882352941176 1" />
      </material>
    </visual>
    <collision>
      <origin xyz="0 0 0" rpy="0 0 0" />
      <geometry>
        <mesh filename="../meshes/right_arm_link4.STL" scale="1.5 1.5 1.5" />
      </geometry>
    </collision>
  </link>
  <joint name="right_arm_joint4" type="revolute">
    <origin xyz="0.26205 0.0007460850000000001 0.1132275" rpy="0 0 0" />
    <parent link="right_arm_link3" />
    <child link="right_arm_link4" />
    <axis xyz="0 1 0" />
    <limit lower="-1.5708" upper="1.5708" effort="14" velocity="32.9867" />
  </joint>
  <link name="right_arm_link5">
    <inertial>
      <origin xyz="-0.000803198983898074 -2.29028914278118E-07 -0.0402656141956459" rpy="0 0 0" />
      <mass value="0.18225" />
      <inertia ixx="0.0004407571883404565" ixy="-1.4781831584155714e-12" ixz="8.475676311160733e-14" iyy="0.00043770189545186677" iyz="-2.7047711194563435e-10" izz="0.000431749019594611" />
    </inertial>
    <visual>
      <origin xyz="0 0 0" rpy="0 0 0" />
      <geometry>
        <mesh filename="../meshes/right_arm_link5.STL" scale="1.5 1.5 1.5" />
      </geometry>
      <material name="">
        <color rgba="0.807843137254902 0.843137254901961 0.905882352941176 1" />
      </material>
    </visual>
    <collision>
      <origin xyz="0 0 0" rpy="0 0 0" />
      <geometry>
        <mesh filename="../meshes/right_arm_link5.STL" scale="1.5 1.5 1.5" />
      </geometry>
    </collision>
  </link>
  <joint name="right_arm_joint5" type="revolute">
    <origin xyz="0.12 -0.047247 0.06075" rpy="0 0 0" />
    <parent link="right_arm_link4" />
    <child link="right_arm_link5" />
    <axis xyz="0 0 1" />
    <limit lower="-1.5708" upper="1.5708" effort="14" velocity="32.9867" />
  </joint>
  <link name="right_arm_link6">
    <inertial>
      <origin xyz="0.00709944426961403 -8.90673146347609E-10 -3.82632235882419E-05" rpy="0 0 0" />
      <mass value="0.104625" />
      <inertia ixx="2.6162551539747448e-05" ixy="-1.523733755264418e-12" ixz="-9.578526553457137e-09" iyy="1.3864120533587797e-05" iyz="-3.0023005328447586e-14" izz="1.380019709698088e-05" />
    </inertial>
    <visual>
      <origin xyz="0 0 0" rpy="0 0 0" />
      <geometry>
        <mesh filename="../meshes/right_arm_link6.STL" scale="1.5 1.5 1.5" />
      </geometry>
      <material name="">
        <color rgba="0.807843137254902 0.843137254901961 0.905882352941176 1" />
      </material>
    </visual>
    <collision>
      <origin xyz="0 0 0" rpy="0 0 0" />
      <geometry>
        <mesh filename="../meshes/right_arm_link6.STL" scale="1.5 1.5 1.5" />
      </geometry>
    </collision>
  </link>
  <joint name="right_arm_joint6" type="revolute">
    <origin xyz="0.0337545 0.0 -0.06075" rpy="0 0 0" />
    <parent link="right_arm_link5" />
    <child link="right_arm_link6" />
    <axis xyz="1 0 0" />
    <limit lower="-2.8798" upper="2.8798" effort="14" velocity="32.9867" />
  </joint>
  <link name="right_gripper_link">
    <inertial>
      <origin xyz="-0.0311072323899603 1.17979991887118E-08 7.93394685505433E-08" rpy="0 0 0" />
      <mass value="2.0385" />
      <inertia ixx="0.0013356004761893117" ixy="-4.602013361149842e-10" ixz="4.029573361460022e-09" iyy="0.0007490318627232059" iyz="-6.21690207114068e-07" izz="0.0012538897244045951" />
    </inertial>
    <visual>
      <origin xyz="0 0 0" rpy="0 0 0" />
      <geometry>
        <mesh filename="../meshes/right_gripper_link.STL" scale="1.5 1.5 1.5" />
      </geometry>
      <material name="">
        <color rgba="0.807843137254902 0.843137254901961 0.905882352941176 1" />
      </material>
    </visual>
    <collision>
      <origin xyz="0 0 0" rpy="0 0 0" />
      <geometry>
        <mesh filename="../meshes/right_gripper_link.STL" scale="1.5 1.5 1.5" />
      </geometry>
    </collision>
  </link>
  <joint name="right_gripper_joint" type="fixed">
    <origin xyz="0.122475 0.0 0.0" rpy="0 0 0" />
    <parent link="right_arm_link6" />
    <child link="right_gripper_link" />
    <axis xyz="0 0 0" />
  </joint>
  <link name="right_gripper_finger_link1">
    <inertial>
      <origin xyz="-0.0195895895552112 -0.0151136845490034 0.00542254359093075" rpy="0 0 0" />
      <mass value="0.06816324592241438" />
      <inertia ixx="1.826823565936306e-05" ixy="3.0297892765620824e-06" ixz="3.889160037832024e-07" iyy="4.3366334215227e-05" iyz="4.7040843808760066e-07" izz="4.924411584221156e-05" />
    </inertial>
    <visual>
      <origin xyz="0 0 0" rpy="0 0 0" />
      <geometry>
        <mesh filename="../meshes/right_gripper_finger_link1.STL" scale="1.5 1.5 1.5" />
      </geometry>
      <material name="">
        <color rgba="0.807843137254902 0.843137254901961 0.905882352941176 1" />
      </material>
    </visual>
    <collision>
      <origin xyz="0 0 0" rpy="0 0 0" />
      <geometry>
        <mesh filename="../meshes/right_gripper_finger_link1.STL" scale="1.5 1.5 1.5" />
      </geometry>
    </collision>
  </link>
  <joint name="right_gripper_finger_joint1" type="prismatic">
    <origin xyz="0.055334999999999995 0.0201795 0.000180885" rpy="0 0 0" />
    <parent link="right_gripper_link" />
    <child link="right_gripper_finger_link1" />
    <axis xyz="0 1 0" />
    <limit lower="0" upper="0.05" effort="100" velocity="0.25" />
  </joint>
  <link name="right_gripper_finger_link2">
    <inertial>
      <origin xyz="-0.0195895857999098 0.0151136893508115 -0.00542254357246619" rpy="0 0 0" />
      <mass value="0.06816324627393446" />
      <inertia ixx="1.826823426776873e-05" ixy="-3.029783116030973e-06" ixz="-3.8891594370930435e-07" iyy="4.336633598323523e-05" iyz="4.7040847681433834e-07" izz="4.9244116096136236e-05" />
    </inertial>
    <visual>
      <origin xyz="0 0 0" rpy="0 0 0" />
      <geometry>
        <mesh filename="../meshes/right_gripper_finger_link2.STL" scale="1.5 1.5 1.5" />
      </geometry>
      <material name="">
        <color rgba="0.807843137254902 0.843137254901961 0.905882352941176 1" />
      </material>
    </visual>
    <collision>
      <origin xyz="0 0 0" rpy="0 0 0" />
      <geometry>
        <mesh filename="../meshes/right_gripper_finger_link2.STL" scale="1.5 1.5 1.5" />
      </geometry>
    </collision>
  </link>
  <joint name="right_gripper_finger_joint2" type="prismatic">
    <origin xyz="0.055334999999999995 -0.0201795 -0.000180885" rpy="0 0 0" />
    <parent link="right_gripper_link" />
    <child link="right_gripper_finger_link2" />
    <axis xyz="0 1 0" />
    <limit lower="-0.05" upper="0" effort="100" velocity="0.25" />
  </joint>
</robot>
